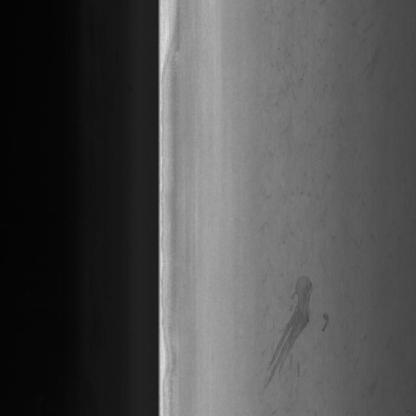silk_spot: (271, 18, 371, 248)
water_spot: (259, 260, 336, 399)
